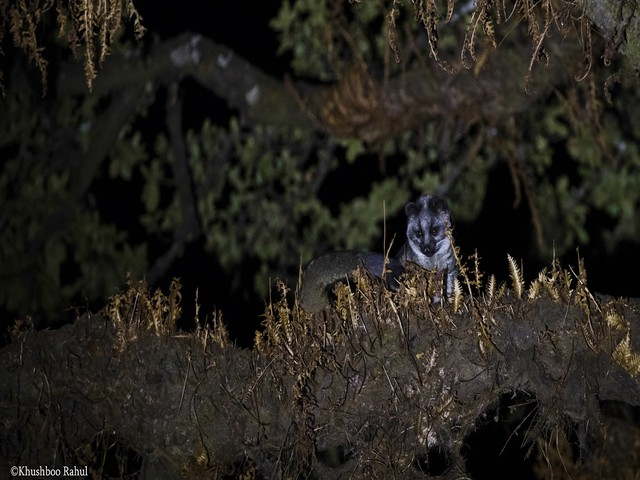civet: (293, 189, 470, 320)
